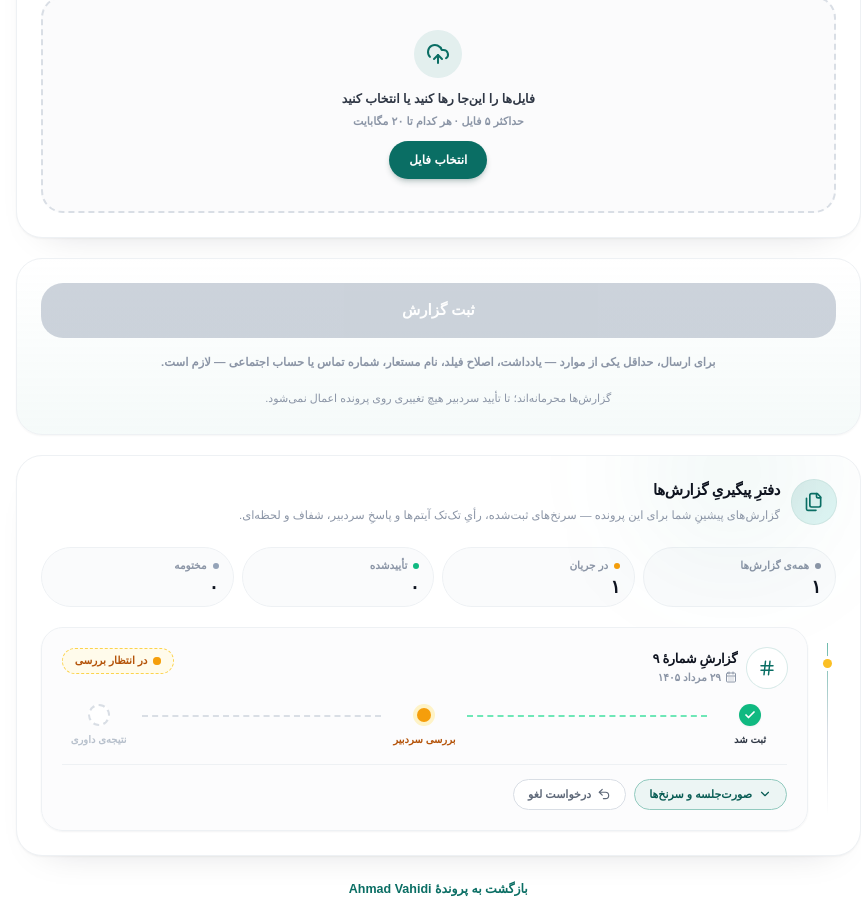
Test: ReportPanel — دفترِ پیگیریِ گزارش‌ها › لغوی pending دو مرحله‌ای است: تأیید → POST → مُهر «درخواست لغو در انتظار تأیید»
(page scrolled)
Expected: the heading "گزارشِ شمارهٔ ۹" is shown, [652,651,737,668]
// مرحله‌ی اول — بازشدنِ نوار تأیید (هنوز POST نمی‌شود)
Click the button "درخواست لغو". click: (570, 794)
box: [513,779,626,810]
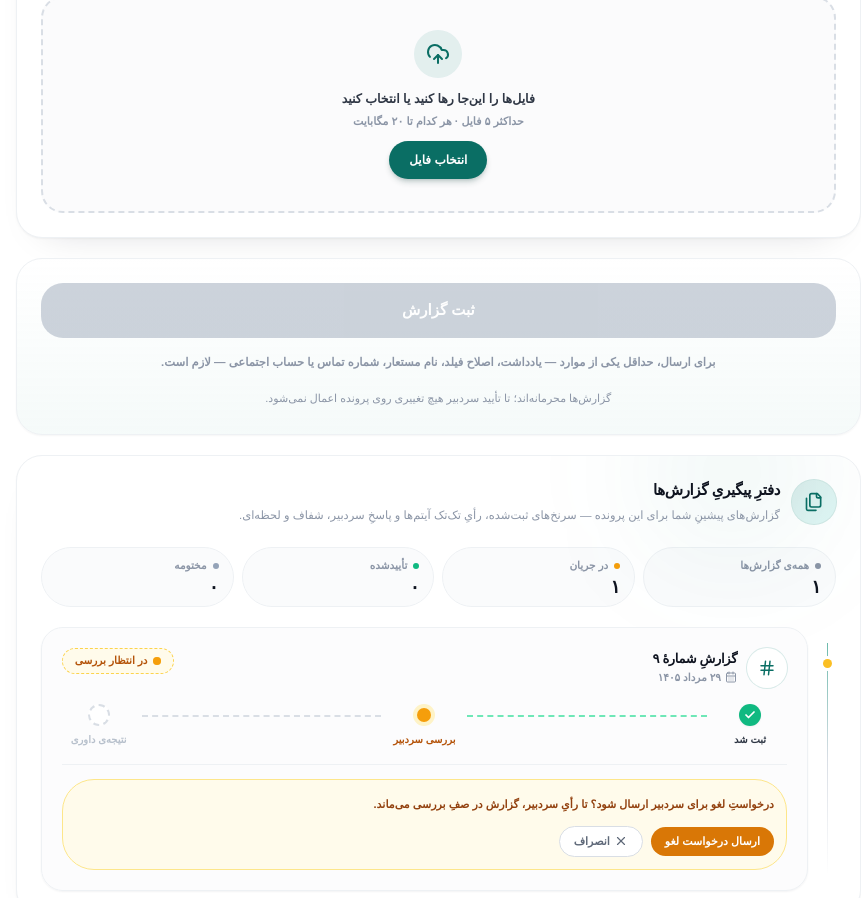
Now the text "درخواستِ لغو برای سردبیر ارسال شود؟" is shown, box [374,798,774,810]
// انصرافِ مسیر اشتباه، POST نمی‌کند
Click the button "انصراف". click: (601, 841)
box: [559,826,643,856]
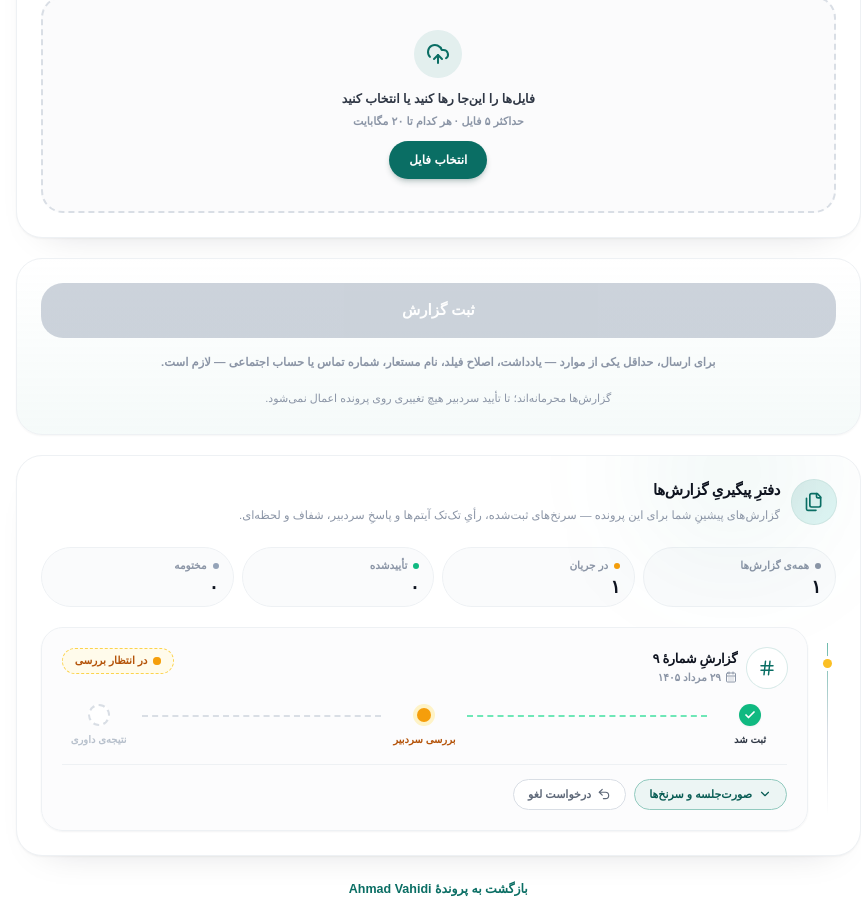
Now the text "درخواستِ لغو برای سردبیر ارسال شود؟" is gone
// مرحله‌ی دوم — ارسال واقعی
Click the button "درخواست لغو". click: (570, 794)
box: [513,779,626,810]
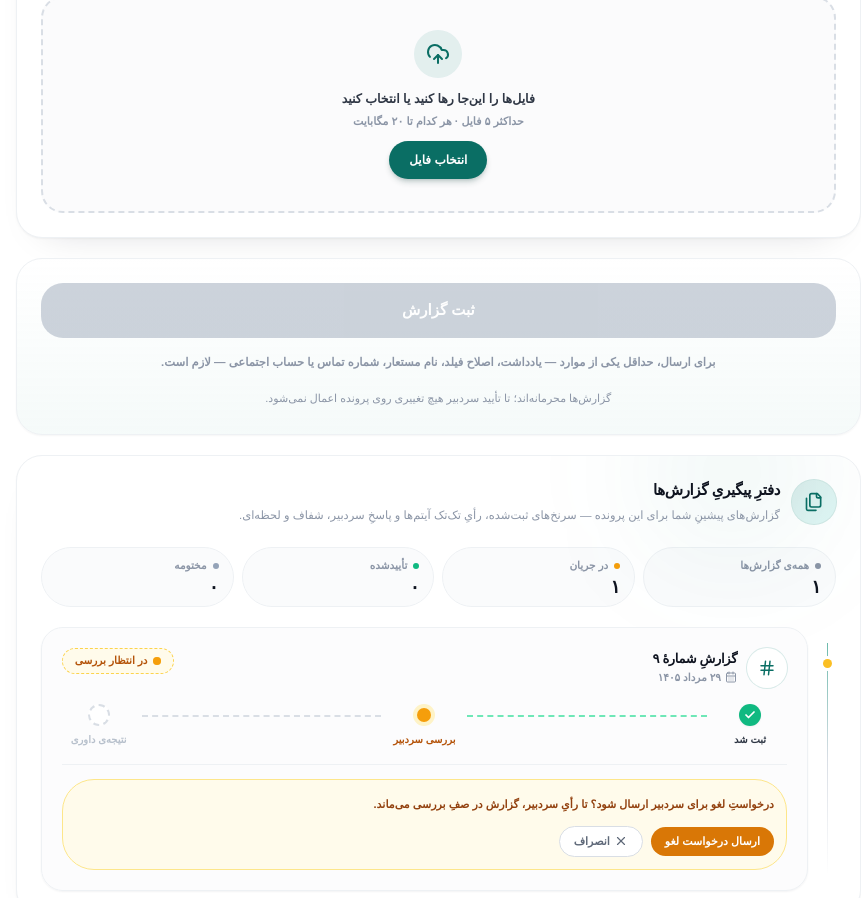
Click the button "ارسال درخواست لغو". click: (712, 841)
box: [651,827,774,856]
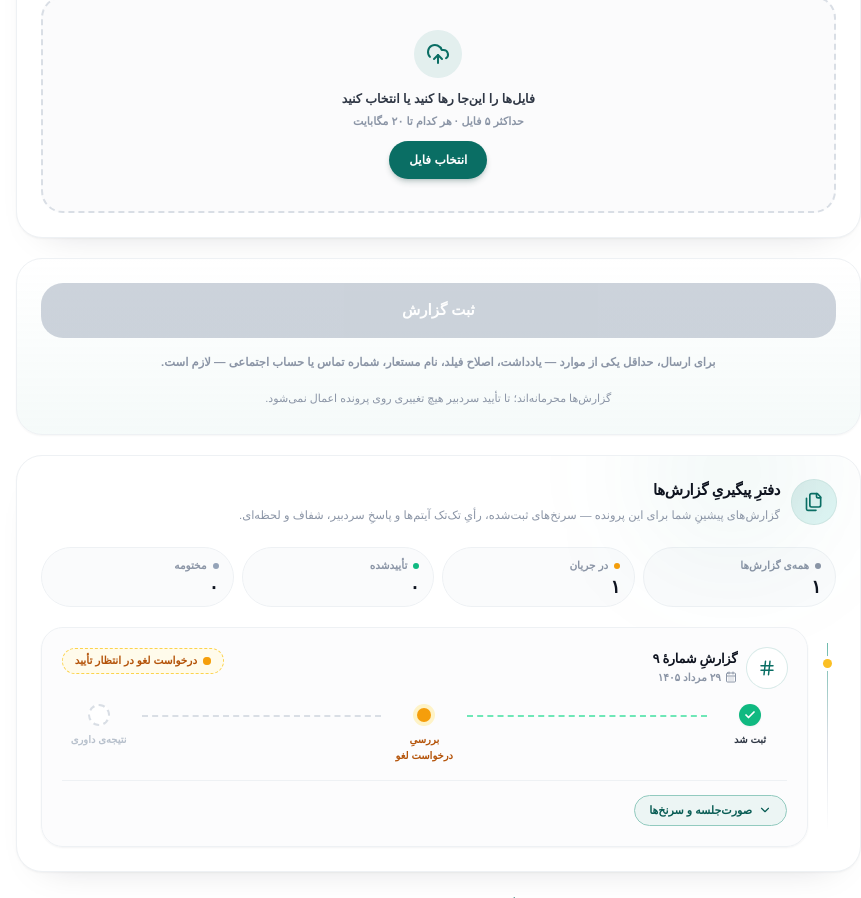
Now the text "درخواست لغو در انتظار تأیید" is shown, box [62,648,224,674]
